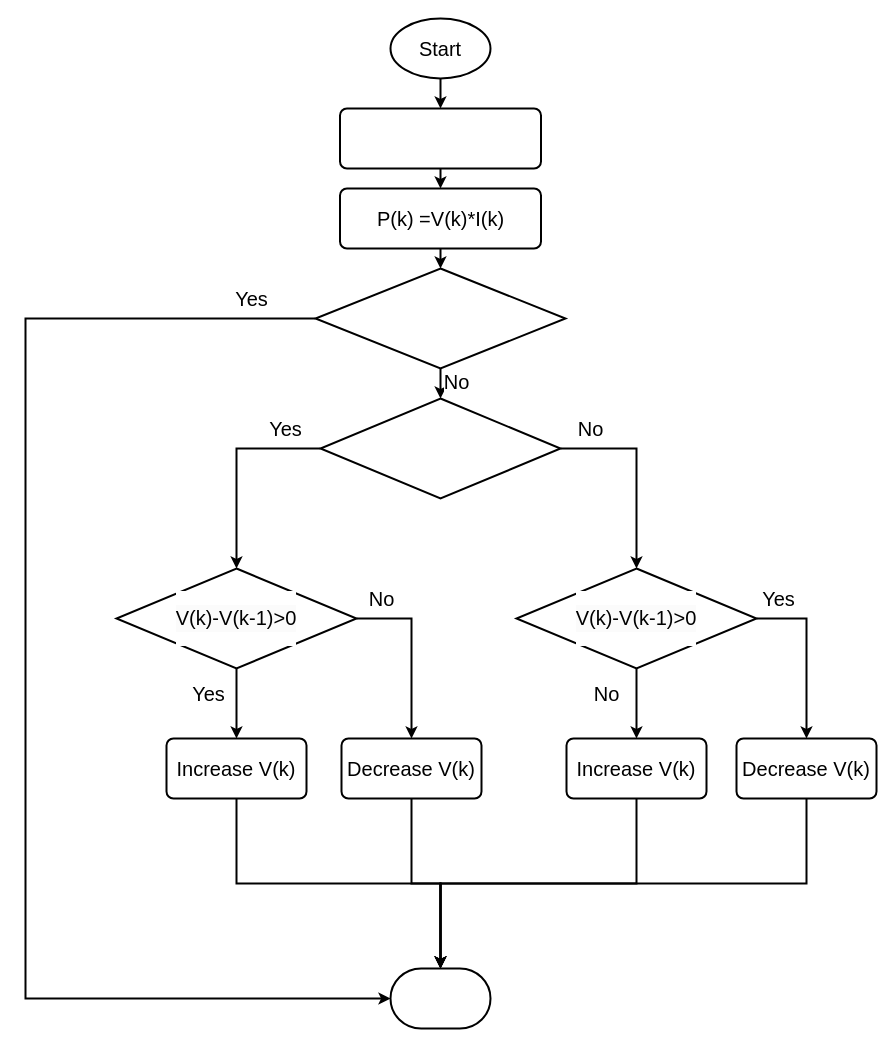
Some shapes in this 894 by 1046 pixel diagram are drawn without their labels. The centre of each missing label's shape, as x and y in pixels:
Input V(k), I(k): [440,138]
P(k)> P(k-1): [440,448]
Return: [440,998]
|P(k)- P(k-1)|<1W: [440,318]
